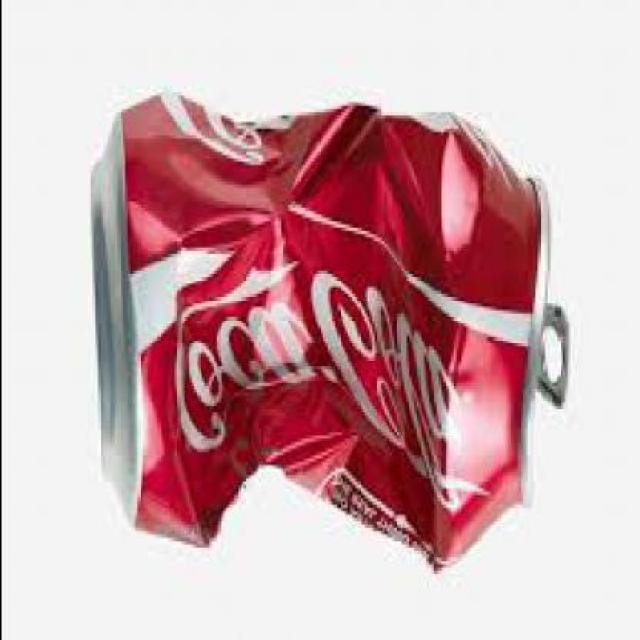METAL: (91, 99, 568, 581)
